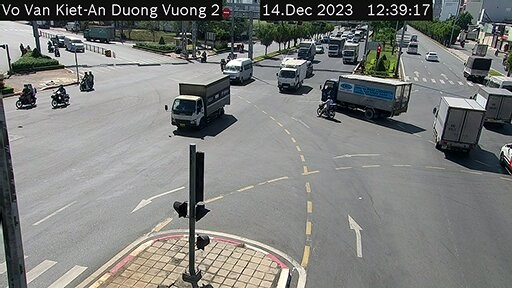car: (501, 136, 512, 185), (424, 50, 436, 64)
motorbike: (315, 92, 337, 120), (14, 83, 37, 109), (48, 86, 72, 106), (79, 69, 99, 93)
truck: (171, 67, 230, 138), (328, 68, 410, 117), (434, 92, 482, 155), (473, 76, 512, 120), (276, 55, 308, 90), (466, 52, 491, 79), (227, 57, 254, 81), (338, 41, 361, 61), (63, 36, 87, 53), (473, 40, 494, 56), (299, 41, 314, 63), (327, 34, 340, 59)
